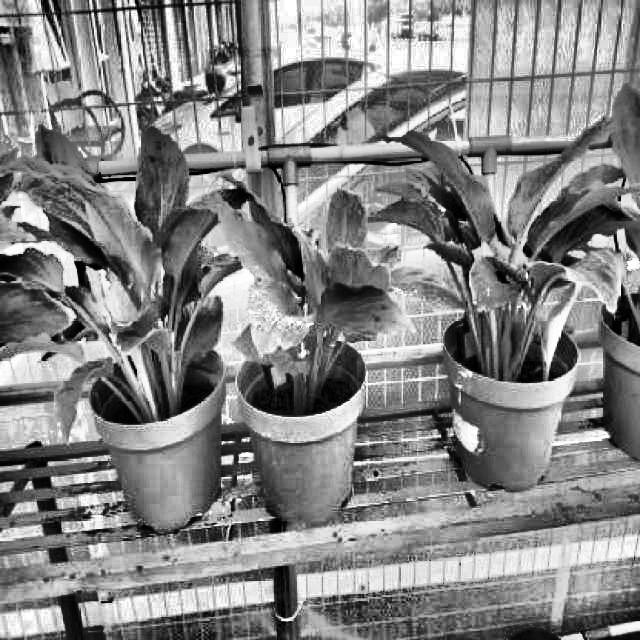plants: (362, 122, 638, 396), (0, 133, 252, 428), (211, 162, 407, 430)
